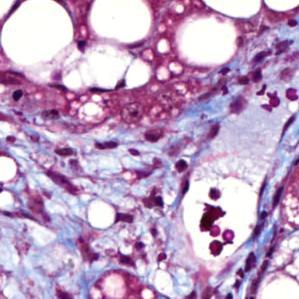steatosis: (84, 199, 123, 227)
